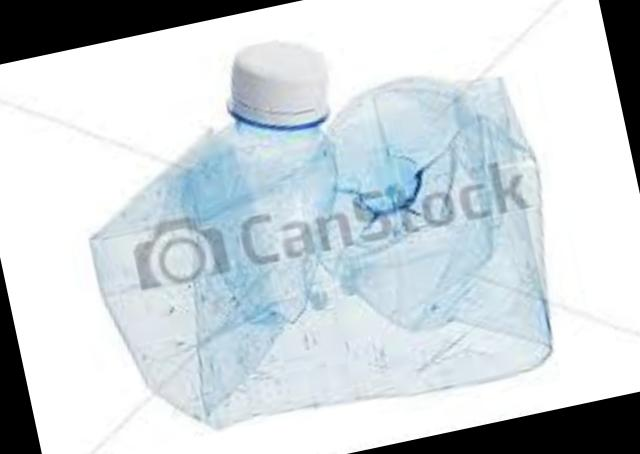plastic: (88, 40, 549, 424)
